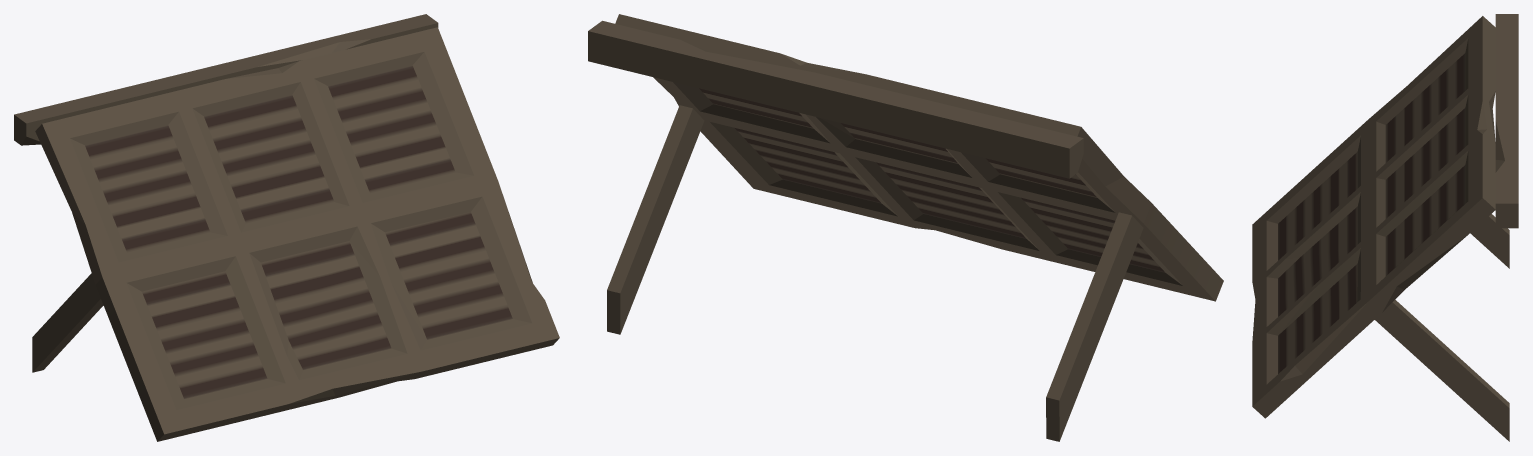
Rendered from SM_Bld_Window_Shutter_01.glb.
The picture shows the model from 3 angles, left to right: view 1: azimuth 30°, elevation 25°; view 2: azimuth 150°, elevation 25°; view 3: azimuth 270°, elevation 25°; orthographic projection. The views are drawn at different scales.
Visible parts, largest first — view 1: SM_Bld_Window_Shutter_01; view 2: SM_Bld_Window_Shutter_01; view 3: SM_Bld_Window_Shutter_01.
Boxes of the visible parts, x1,y1,x2,y2 form: SM_Bld_Window_Shutter_01: [14, 14, 559, 441]; SM_Bld_Window_Shutter_01: [588, 14, 1223, 441]; SM_Bld_Window_Shutter_01: [1252, 14, 1518, 441].
Size of the model in its own units: 2.43 by 1.47 by 1.44.
1 material, 1 textured.
